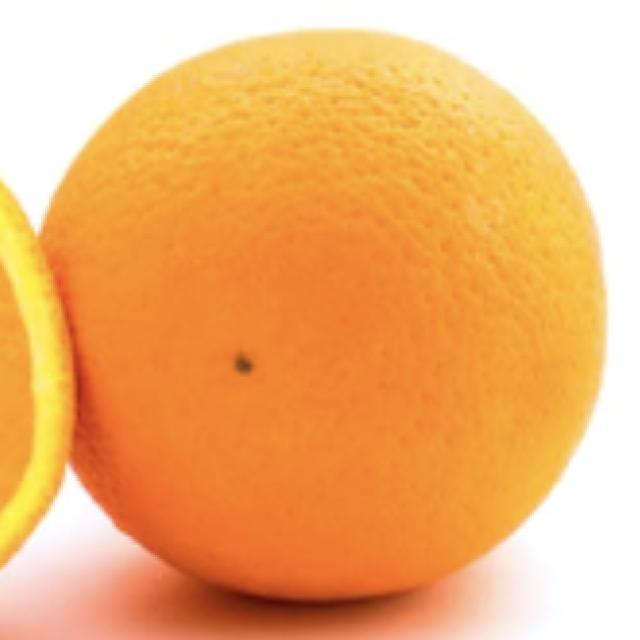Orange: (37, 25, 608, 605), (0, 110, 76, 601)
